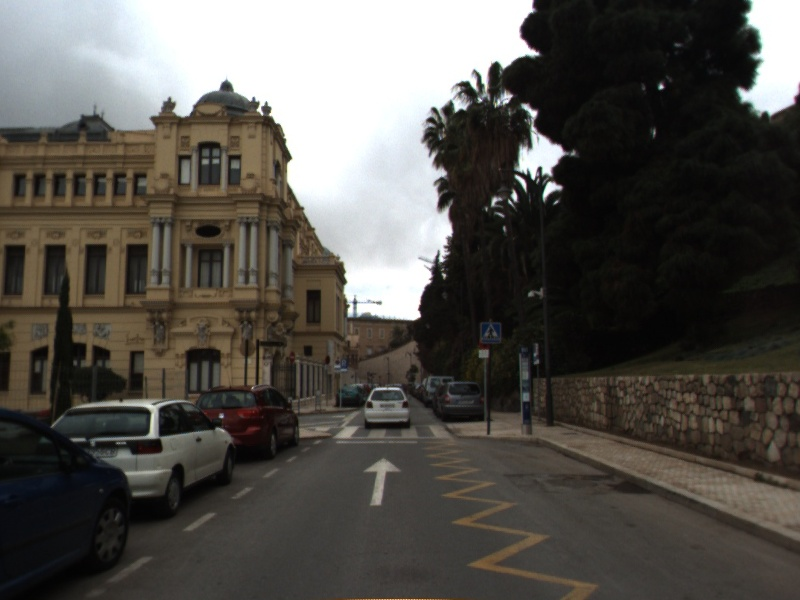STRAIGHT: (361, 456, 404, 507)
